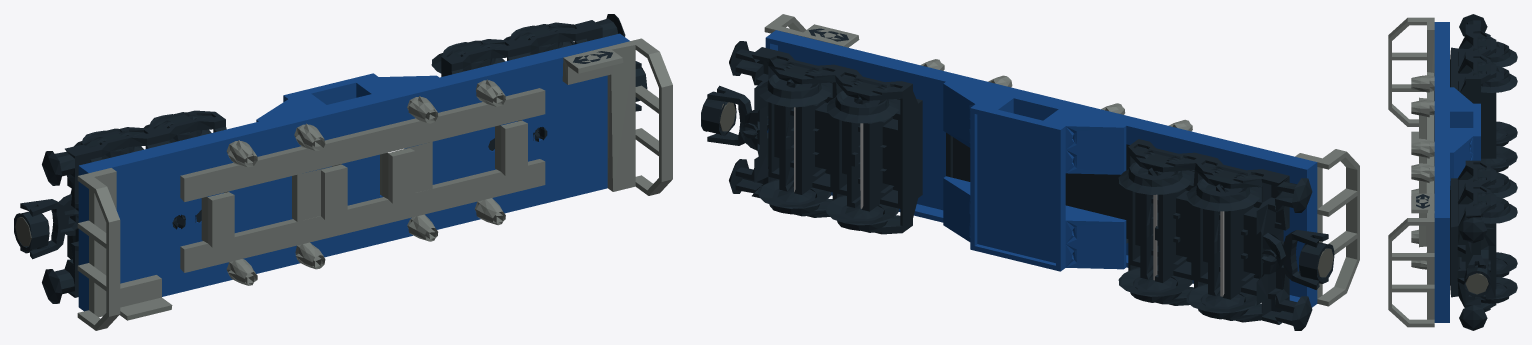
Rendered from cargo-station.glb.
3 views of the same model, side by side, from view 1: azimuth 30°, elevation 25°; view 2: azimuth 150°, elevation 25°; view 3: azimuth 270°, elevation 25° (orthographic). The views are drawn at different scales.
Bounding box in the file's own units: 218 × 51.8 × 53.62.
